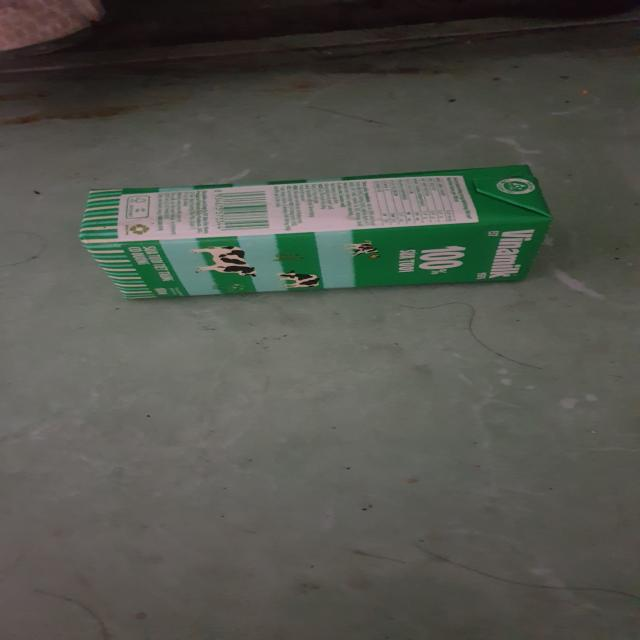Vina: (88, 157, 543, 300)
